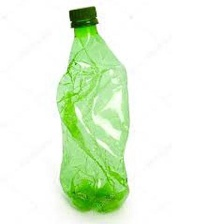bottle: (53, 6, 133, 216)
